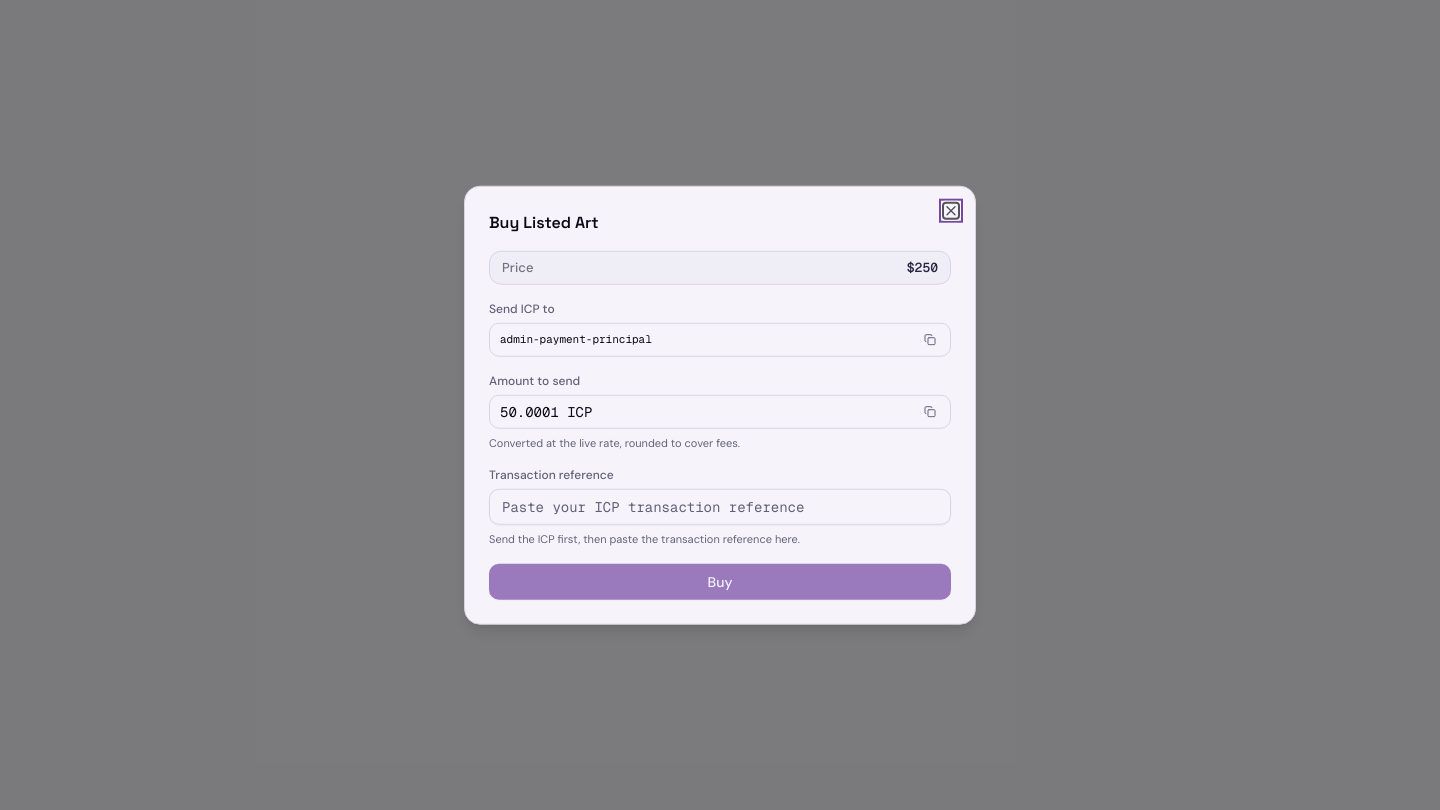
Test: PurchaseModal (cover) › shows the success state with View in Gallery / Close on a confirmed purchase
Type "42" into the field labelled "Transaction reference".
click(720, 507); type("42")  # box [489,489,951,525]
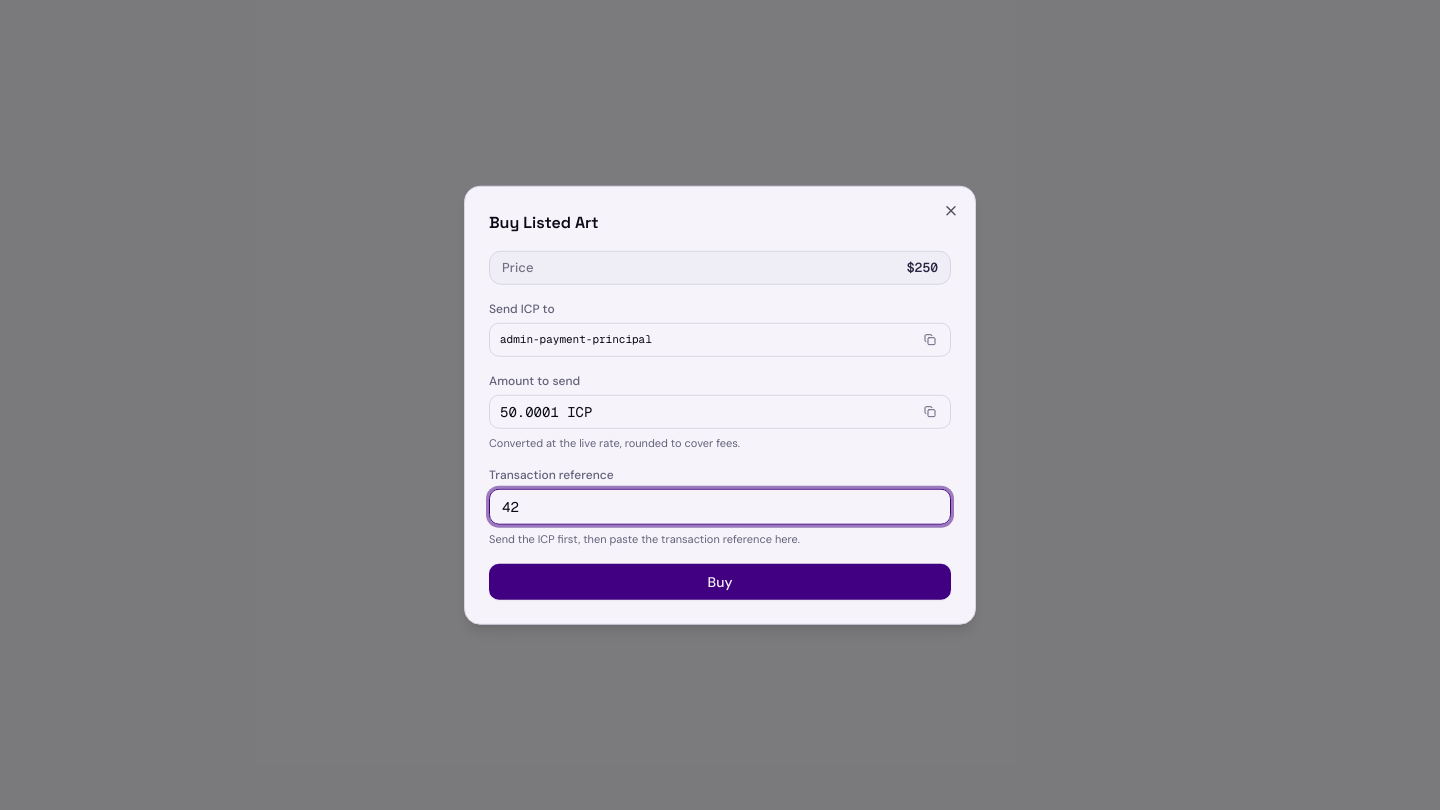
Click the button "Buy".
click(720, 581)  # box [489,563,951,599]
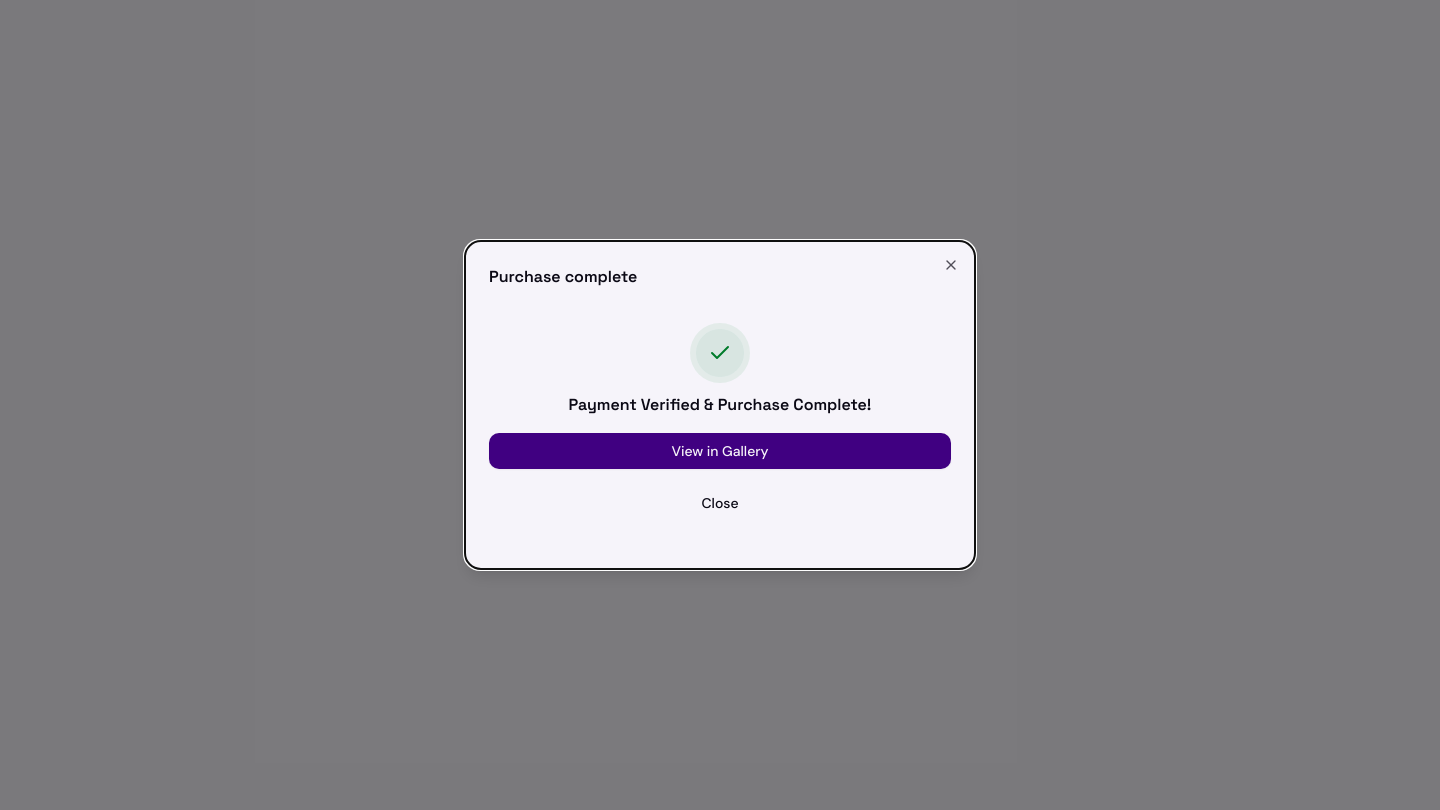
Expected: the text "Payment Verified & Purchase Complete!" is shown, [568,393,871,417]
Expected: the element showing "Payment Verified & Purchase Complete! View in Gallery Close" is shown, [489,305,951,545]
Expected: the button "View in Gallery" is shown, [489,433,951,469]
